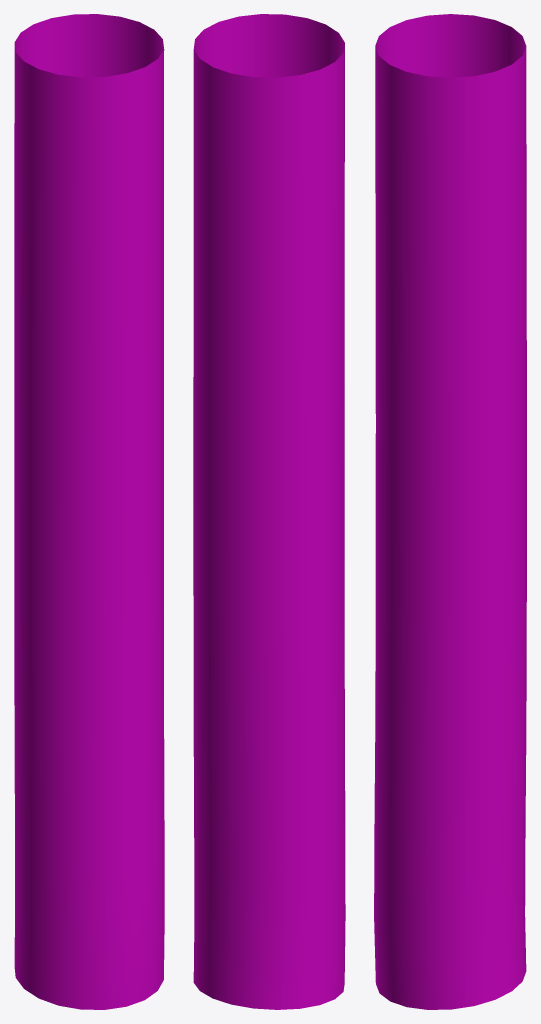
File: pipe.fbx
The picture shows the model from 3 angles, left to right: view 1: azimuth 30°, elevation 25°; view 2: azimuth 150°, elevation 25°; view 3: azimuth 270°, elevation 25°; orthographic projection.
Parts seen in each view (by area): view 1: Pipe_Curved1; view 2: Pipe_Curved1; view 3: Pipe_Curved1.
Part boxes in pixels (bbox=[...]): Pipe_Curved1: bbox=[14, 14, 164, 1009]; Pipe_Curved1: bbox=[193, 14, 345, 1009]; Pipe_Curved1: bbox=[374, 14, 526, 1009].
Bounding box in the file's own units: 0.0266 × 0.1823 × 0.0269.
